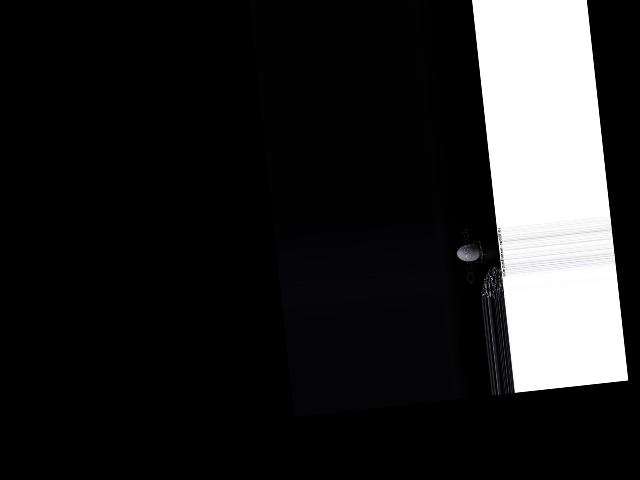egg: (456, 242, 481, 262)
